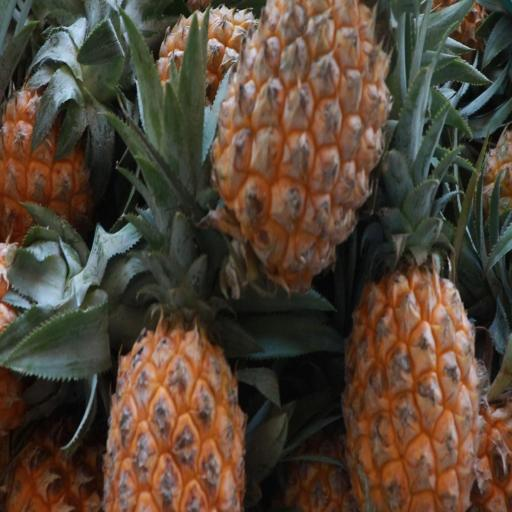Pineapple - v8 v1: (206, 0, 396, 303), (339, 151, 486, 512), (100, 239, 249, 512), (3, 34, 121, 240)
